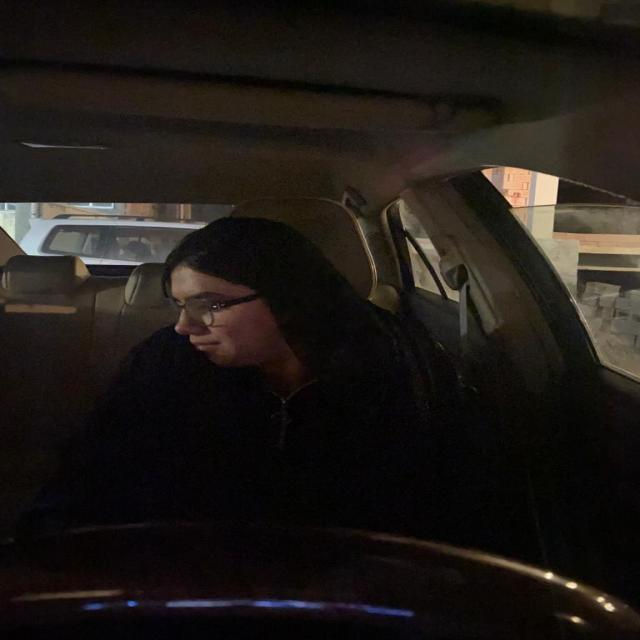person: (154, 210, 356, 384)
